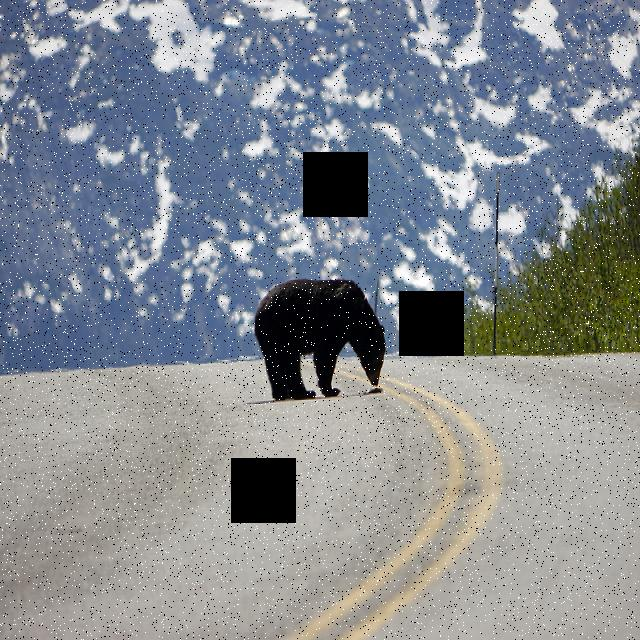Bear: (256, 268, 388, 398)
